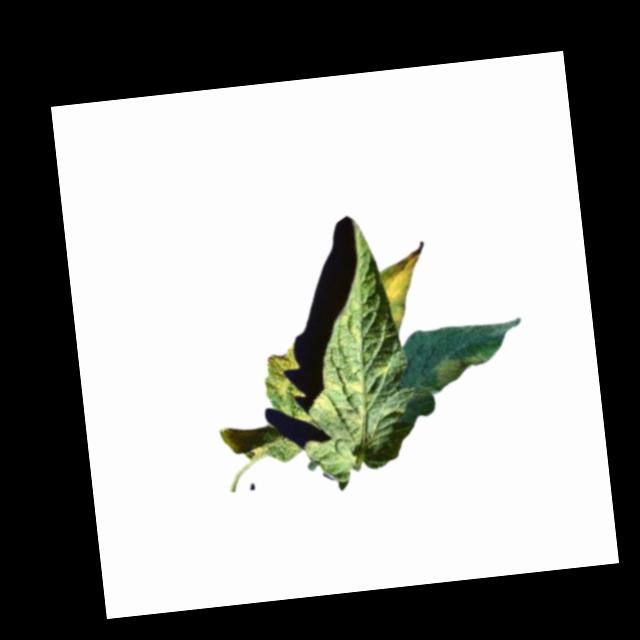Leaf_Mold: (378, 243, 434, 332), (310, 371, 369, 430), (431, 349, 499, 392), (260, 342, 303, 404)
